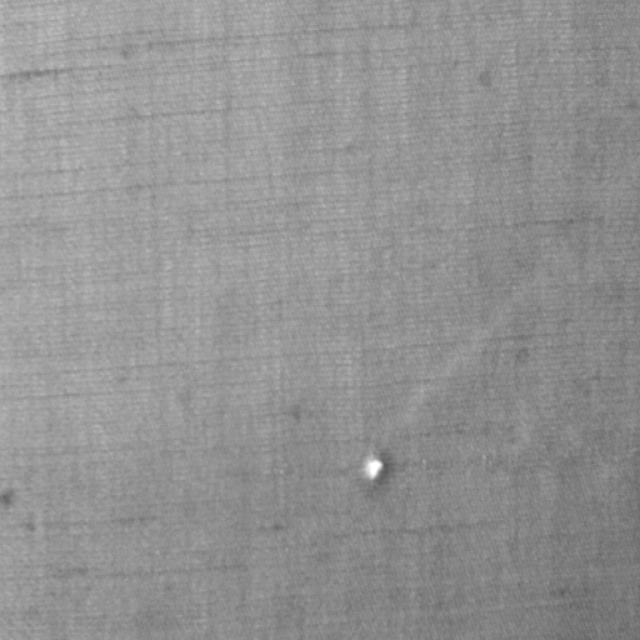hole: (358, 448, 389, 492)
